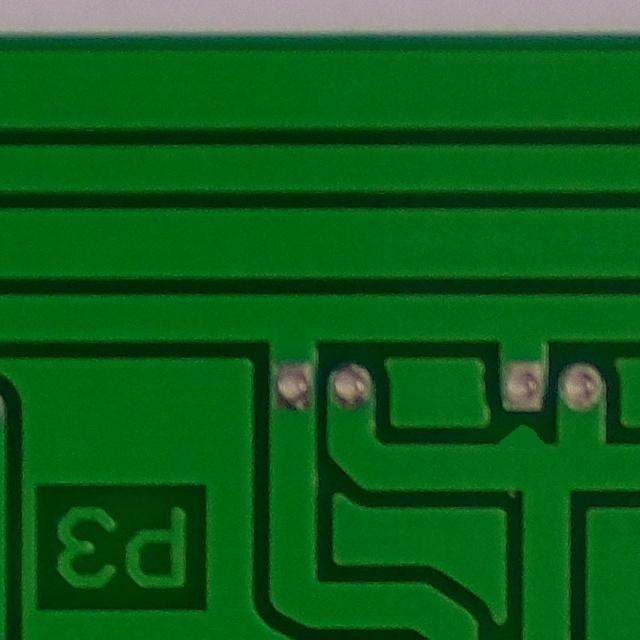spur: (490, 410, 564, 459)
